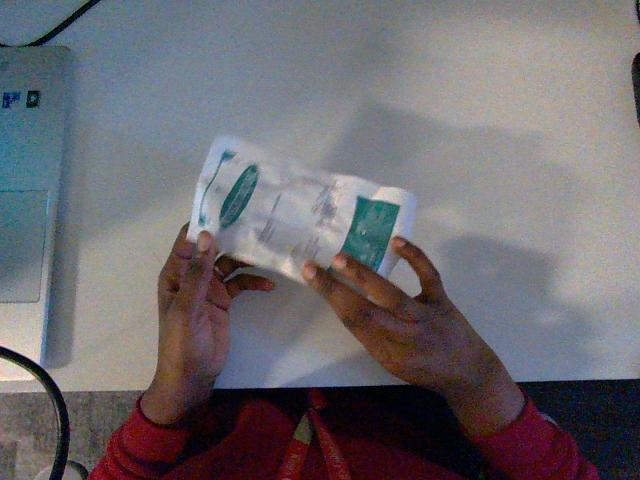gallipot: (187, 136, 415, 281)
